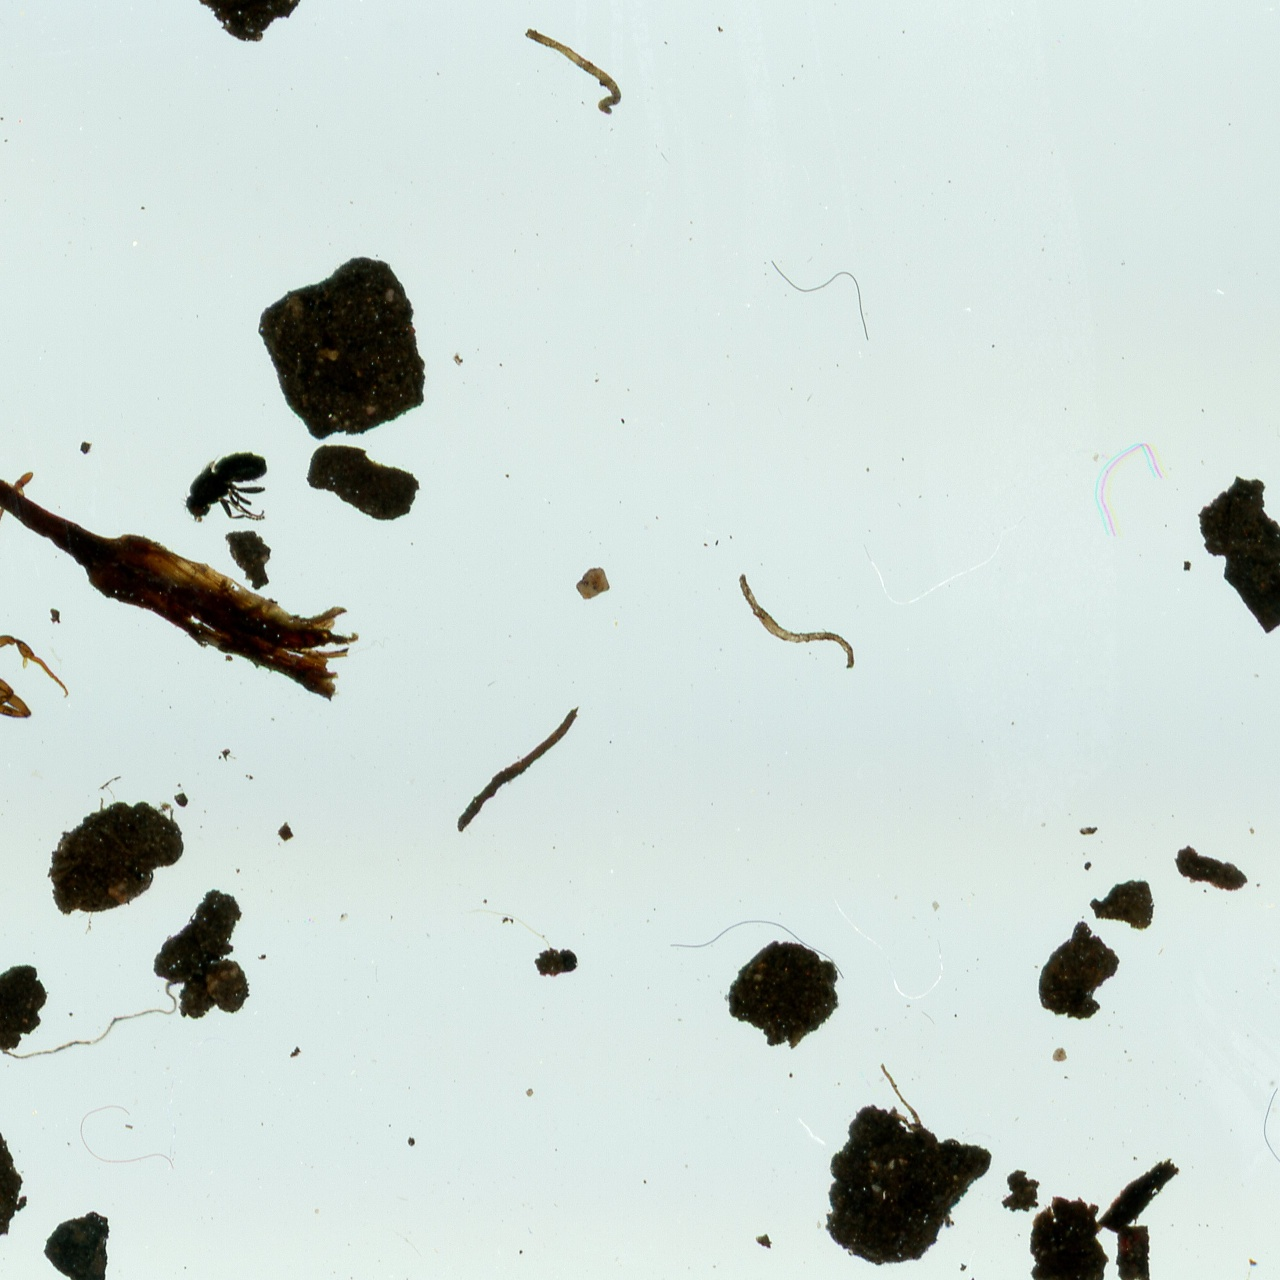arthropod: (0, 466, 74, 735), (176, 444, 273, 531)
